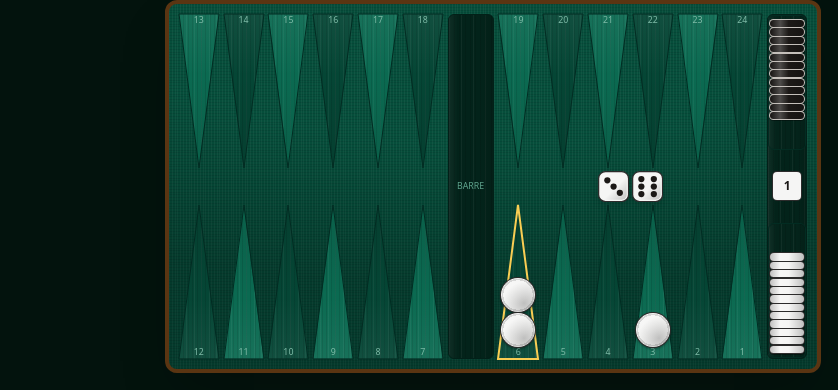
dragging a checker › takes the checker off the point it left and puts it under the pointer
The width and height of the screenshot is (838, 390).
Press the mouse on the button "6" at (518, 282), box [498,205,538,359]
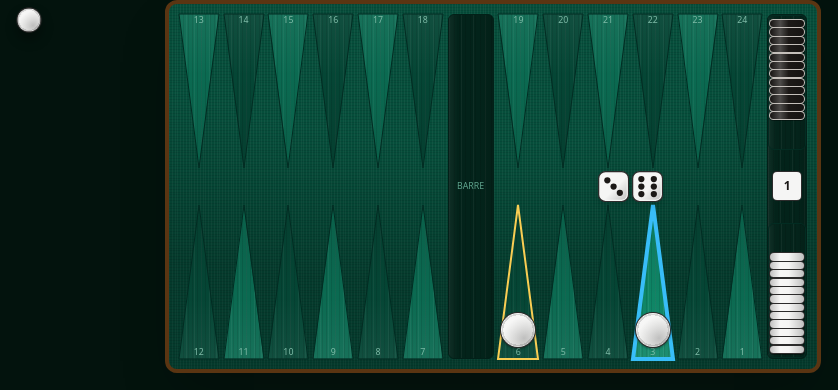
Check: the element with class "fixed" is shown, box [18,8,40,32]
